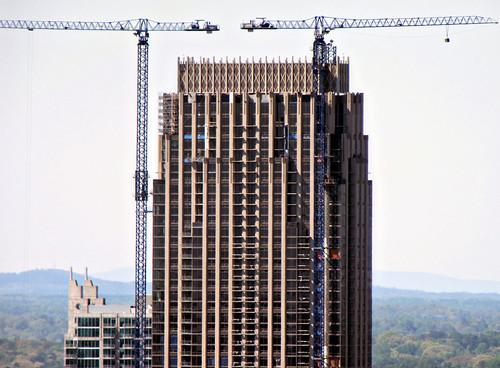building: (149, 51, 377, 364)
